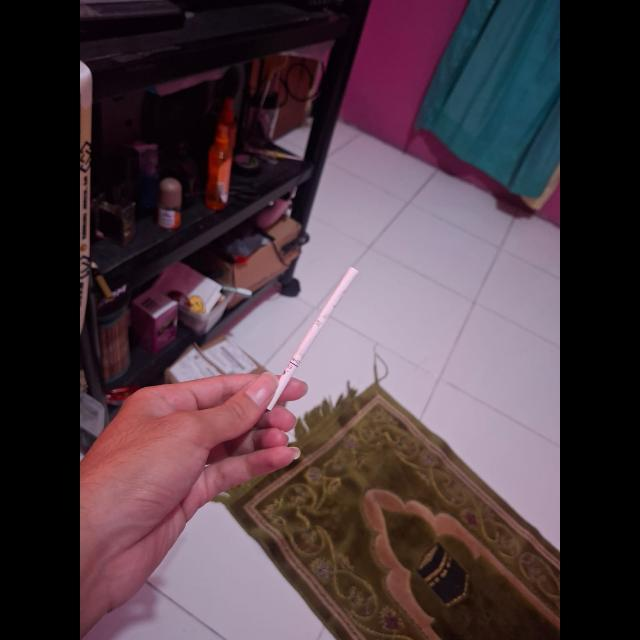rokok: (260, 258, 362, 427)
